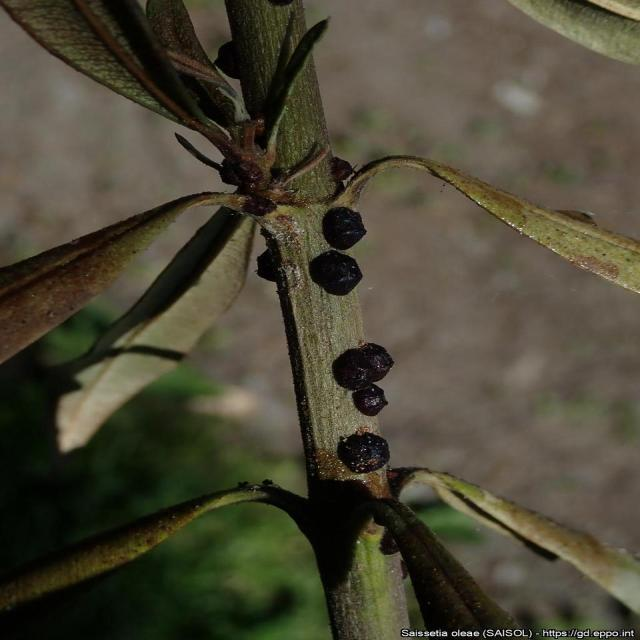BlackScale: (332, 343, 393, 416), (308, 249, 362, 296), (338, 429, 390, 474), (322, 207, 358, 251), (214, 41, 242, 82), (256, 247, 281, 283), (554, 210, 596, 230), (330, 157, 354, 187), (242, 198, 278, 214)
